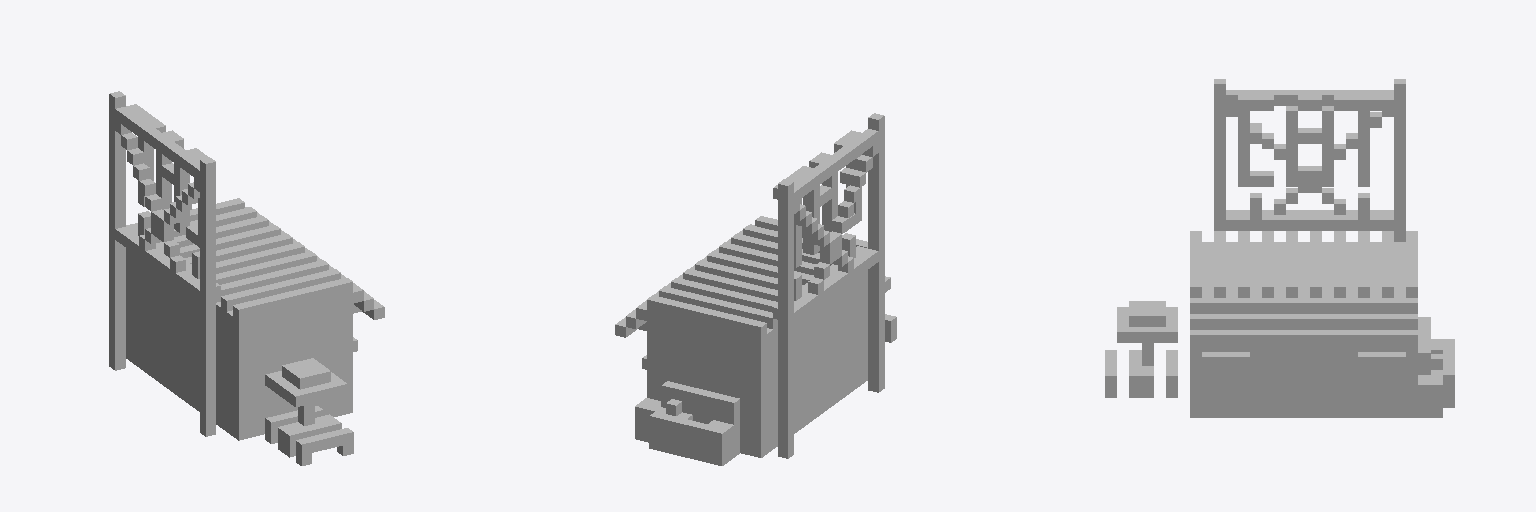
Rendered from vrjam01_eat.obj.
3 views of the same model, side by side, from view 1: azimuth 30°, elevation 25°; view 2: azimuth 150°, elevation 25°; view 3: azimuth 270°, elevation 25° (orthographic).
Bounding box in the file's own units: 16 × 25 × 29.